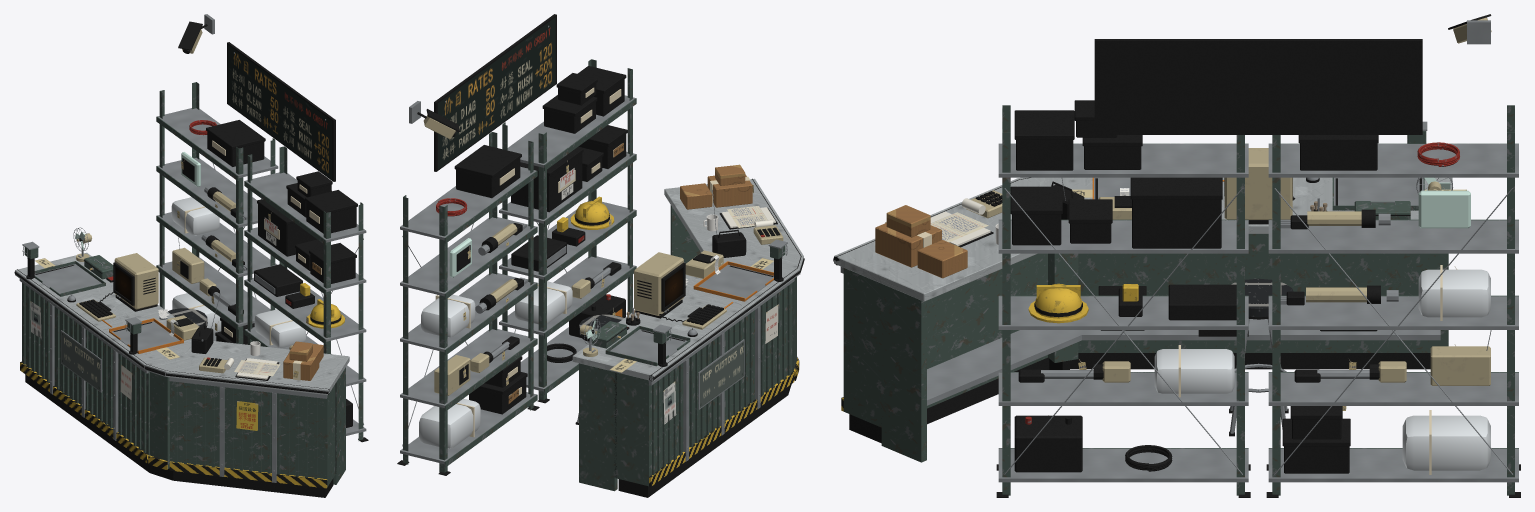
Rendered from TradeCounterV2.fbx.
3 views of the same model, side by side, from view 1: azimuth 30°, elevation 25°; view 2: azimuth 150°, elevation 25°; view 3: azimuth 270°, elevation 25° (orthographic). The views are drawn at different scales.
Parts seen in each view (by area): view 1: ZC_Counter, ZC_Racking, ZC_ShelfGoods, ZC_Prints, ZC_CounterTop, ZC_Corner, ZC_Terminal, ZC_Tray_Out, ZC_Tray_In, ZC_TariffBoard, ZC_StatusPods, ZC_Cctv (+5 smaller); view 2: ZC_Racking, ZC_ShelfGoods, ZC_Counter, ZC_Prints, ZC_CounterTop, ZC_Corner, ZC_Terminal, ZC_Tray_In, ZC_Tray_Out, ZC_TariffBoard, ZC_StatusPods, ZC_Cctv (+5 smaller); view 3: ZC_Racking, ZC_ShelfGoods, ZC_Counter, ZC_TariffBoard, ZC_CounterTop, ZC_Corner, ZC_Terminal, ZC_Tray_Out, ZC_Stool, ZC_Prints, ZC_Cctv, ZC_CashBox.
Boxes of the visible parts, x1,y1,x2,y2 form: ZC_Counter: (19, 279, 345, 497); ZC_Racking: (156, 82, 368, 442); ZC_ShelfGoods: (171, 120, 357, 427); ZC_Prints: (30, 45, 332, 430); ZC_CounterTop: (14, 252, 349, 395); ZC_Corner: (191, 293, 323, 380); ZC_Terminal: (113, 253, 158, 311); ZC_Tray_Out: (34, 261, 105, 296); ZC_Tray_In: (109, 318, 183, 353); ZC_TariffBoard: (227, 42, 335, 181); ZC_StatusPods: (22, 241, 142, 354); ZC_Cctv: (178, 14, 214, 53); ZC_Racking: (397, 59, 636, 475); ZC_ShelfGoods: (419, 66, 627, 448); ZC_Counter: (579, 205, 799, 497); ZC_Prints: (438, 17, 778, 424); ZC_CounterTop: (572, 178, 804, 381); ZC_Corner: (680, 164, 783, 257); ZC_Terminal: (634, 252, 685, 318); ZC_Tray_In: (693, 261, 773, 301); ZC_Tray_Out: (605, 326, 690, 366); ZC_TariffBoard: (434, 14, 556, 171); ZC_StatusPods: (652, 239, 787, 366); ZC_Cctv: (409, 101, 459, 139); ZC_Racking: (996, 105, 1520, 497); ZC_ShelfGoods: (1010, 100, 1491, 474); ZC_Counter: (840, 234, 1448, 462); ZC_TariffBoard: (1094, 39, 1422, 134); ZC_CounterTop: (833, 177, 1452, 301); ZC_Corner: (875, 178, 1084, 278); ZC_Terminal: (1224, 148, 1292, 224); ZC_Tray_Out: (1332, 177, 1424, 210); ZC_Stool: (1229, 278, 1293, 436); ZC_Prints: (930, 188, 1466, 410); ZC_Cctv: (1448, 14, 1491, 44); ZC_CashBox: (1354, 201, 1410, 219).
Size of the model in its own units: 1.84 by 2.62 by 3.44.
